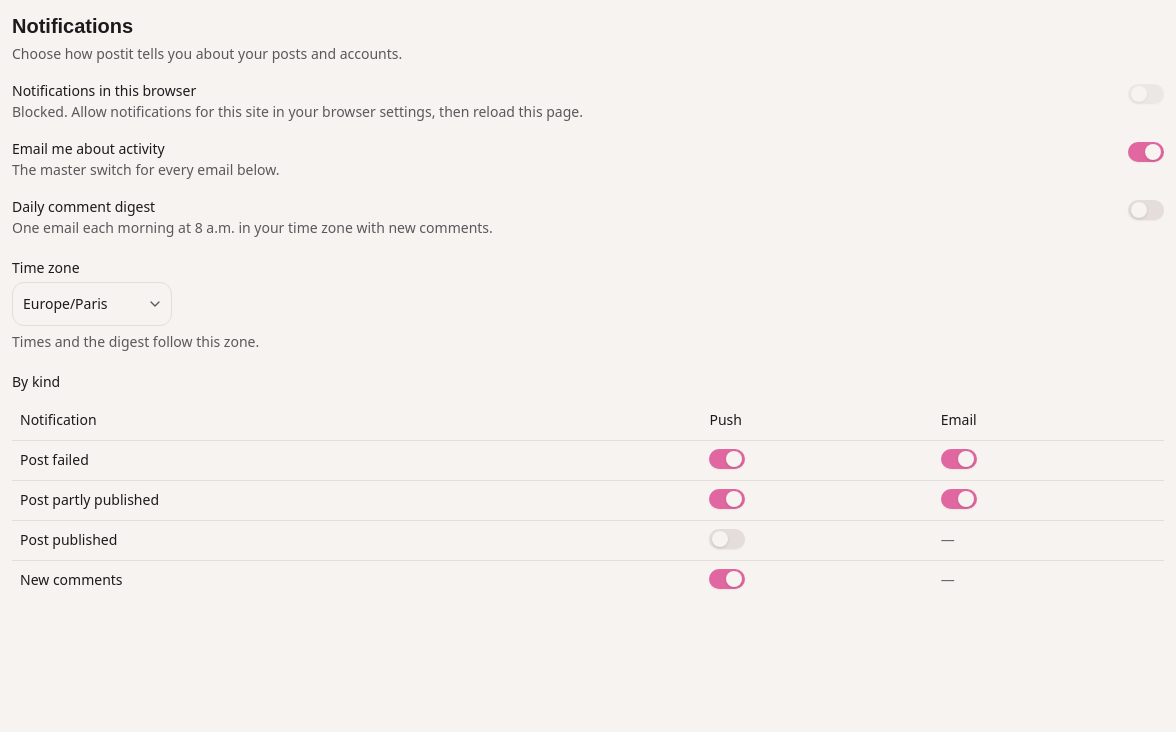
Test: preferences › falls back to the zones in use when the browser cannot list them
The image size is (1176, 732).
// The whole list is the default, the stored zone, and the browser's zone.
Step 1. Click the dropdown named "Time zone" → x=92, y=304, box [12,282,172,326]
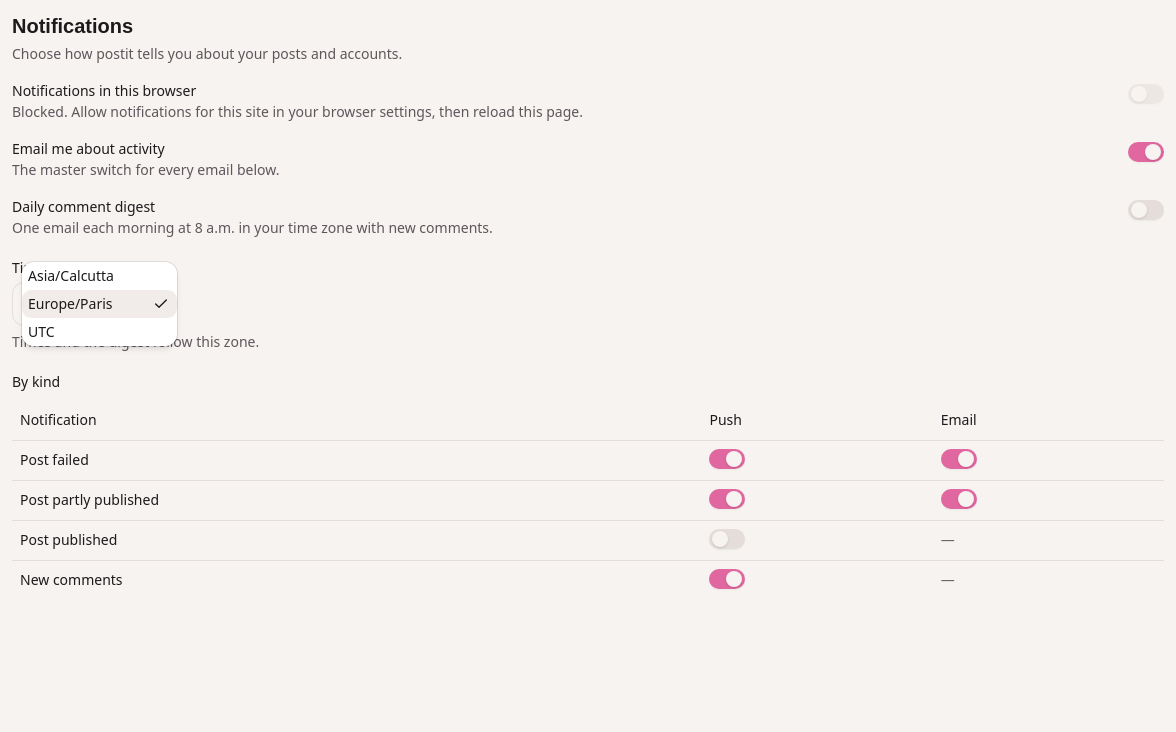
Now the options read "Asia/Calcutta", "Europe/Paris", "UTC", in this order, box [28,266,114,285]; [22,290,177,318]; [28,322,55,341]
